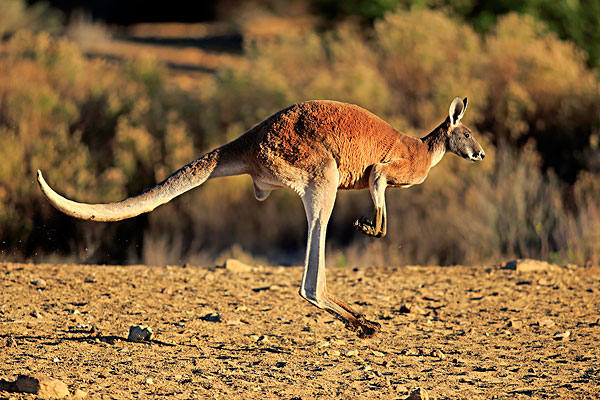kangaroo: (33, 95, 487, 341)
